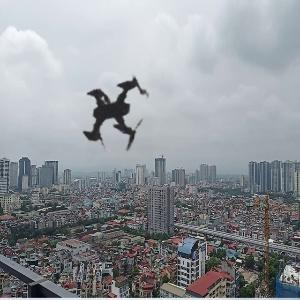drone: (11, 7, 228, 224)
